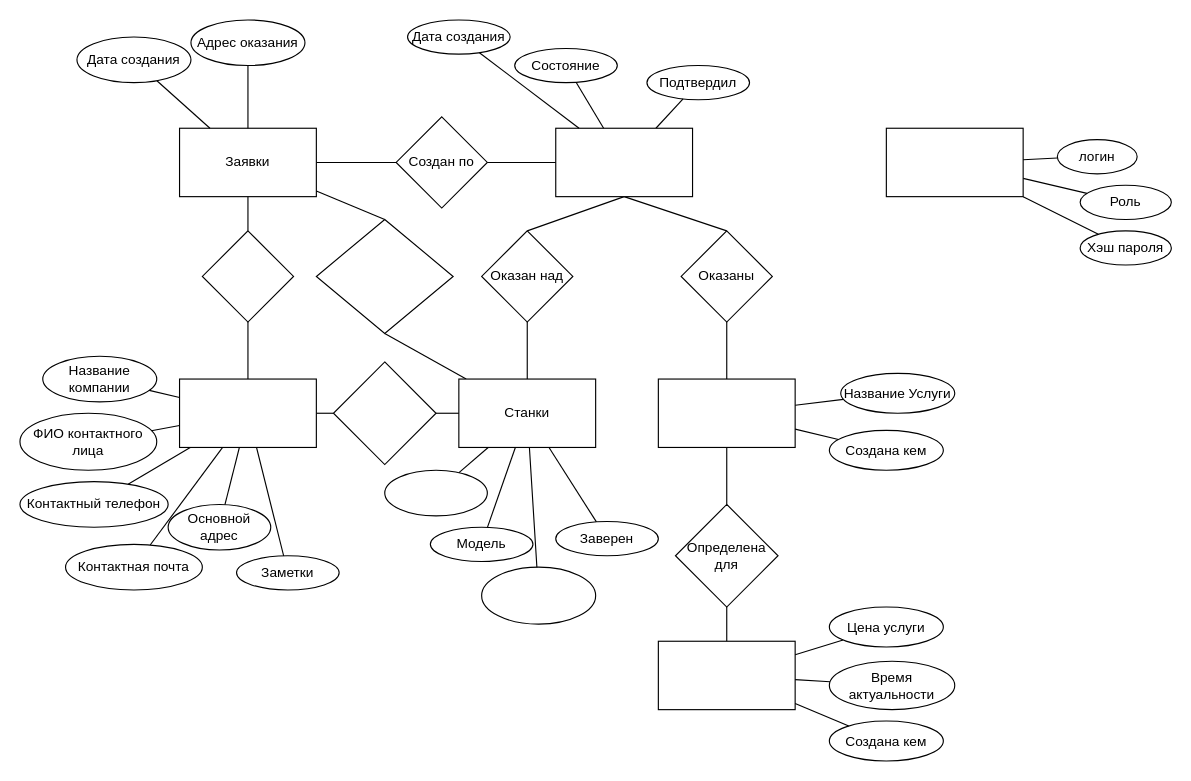
The diagram is 1191 pixels wide and 781 high, and some of its shapes have lost their labels. The centre of each missing label's shape, as x and y in pixels:
"Актуальные цены" belongs at (x=726, y=675).
"Заказы" belongs at (x=624, y=162).
"Запрашивается на" belongs at (x=384, y=275).
"Клиенты" belongs at (x=247, y=412).
"Комментарий мастера" belongs at (x=538, y=595).
"Оказан для" belongs at (x=247, y=276).
"Оказываемые услуги" belongs at (x=726, y=412).
"Принадлежит" belongs at (x=384, y=413).
"Серийный номер" belongs at (x=435, y=492).
"Сотрудники" belongs at (x=954, y=162).
